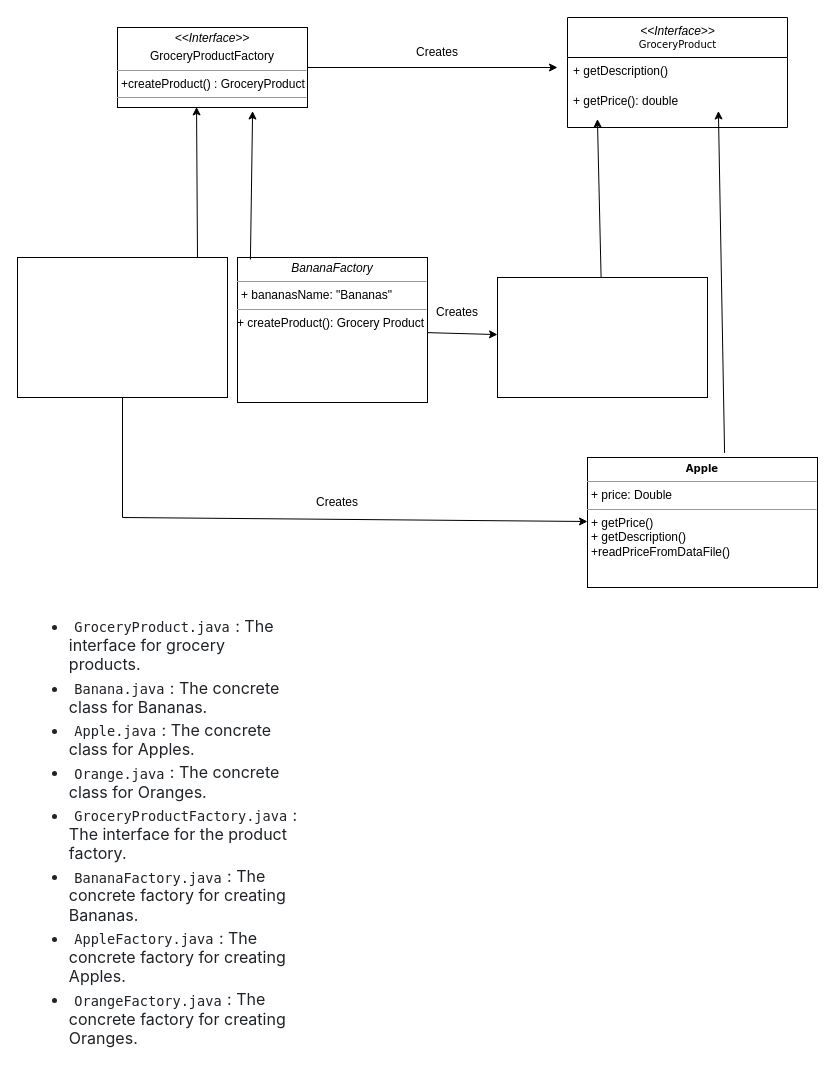
This 835x1065 diagram has some shape labels left out. The centre of each missing label's shape, as x and y in pixels:
AppleFactory + applesName: string "Apples" + createProduct(): Grocery Product: (122,327)
Banana + price: Double + getPrice() + getDescription() +readPriceFromDataFile(): (602,337)
